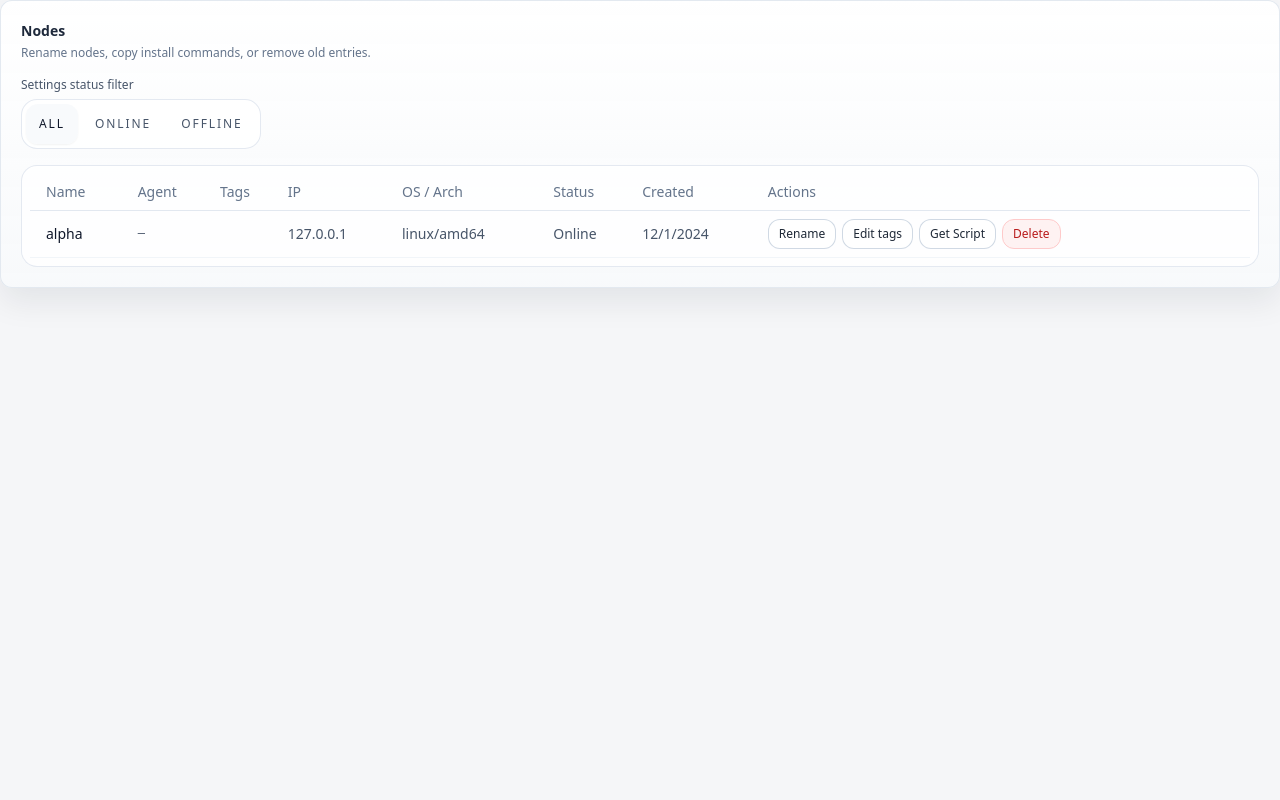
Test: settings nodes table › shows an inline error when copying install command is denied
Click the button "Get Script": [958, 234] box [919,219,996,249]
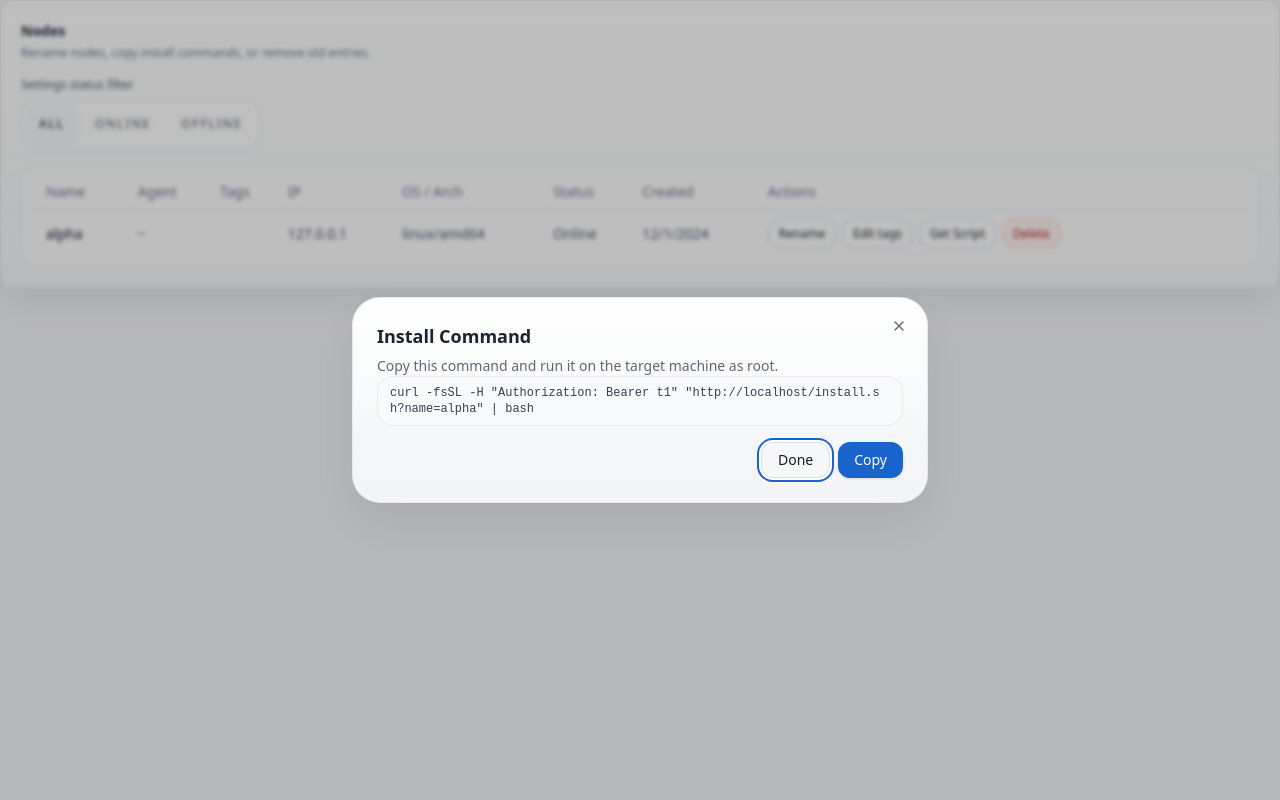
Now the heading "Install Command" is shown, box [377,324,531,348]
Click the button with aria-label "Copy command": [871, 460] box [838,442,903,478]
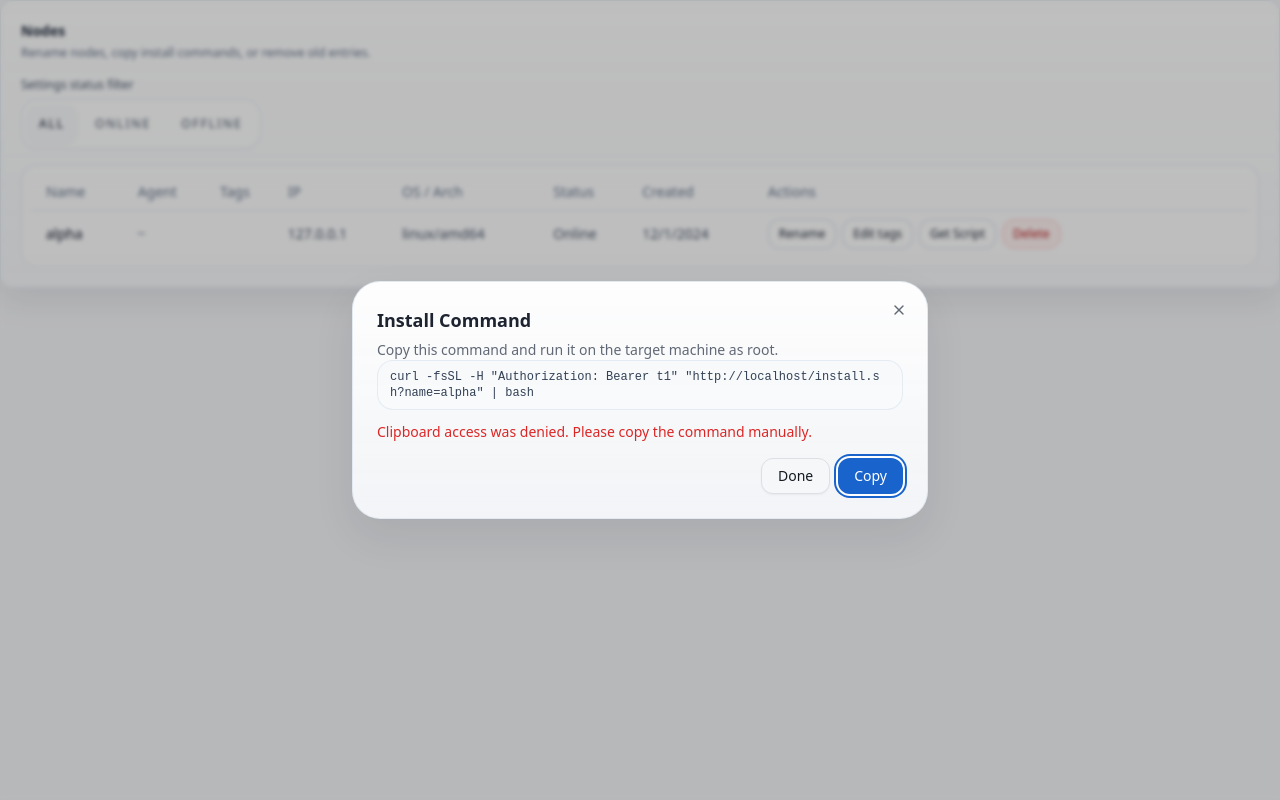
Now the text "Clipboard access was denied. Please copy the command manually." is shown, box [377,422,812,441]
